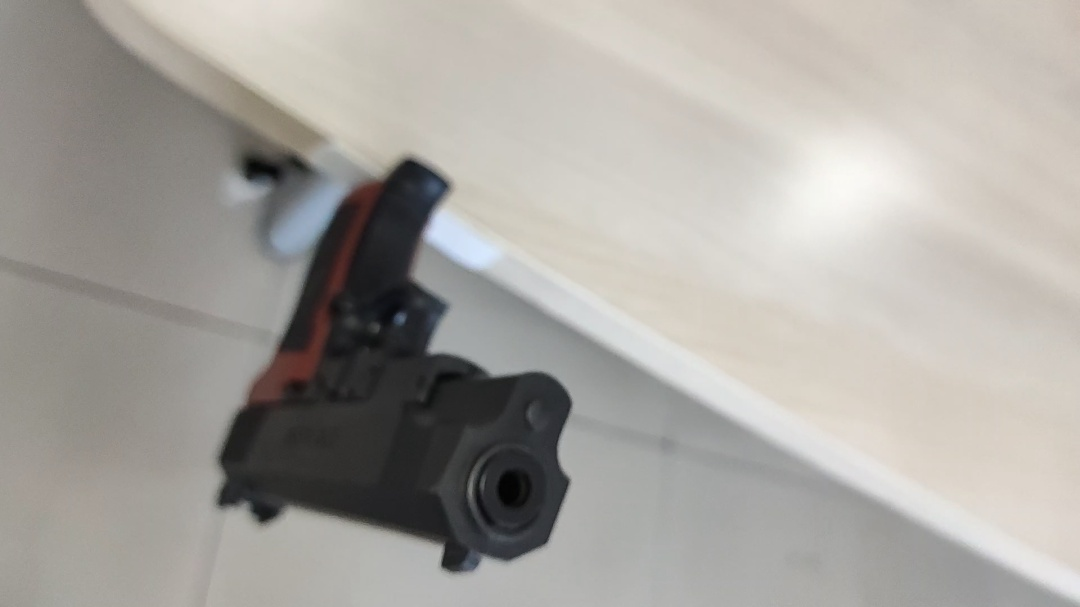gun: (375, 318, 411, 352)
